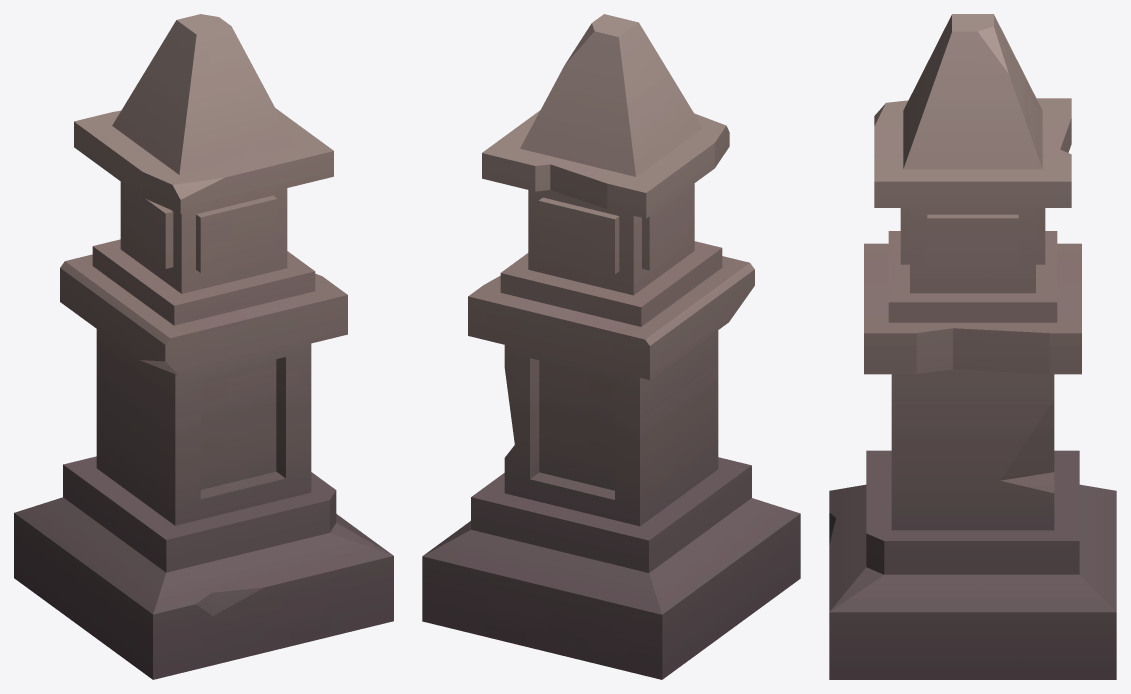
The model's file is tower.glb.
The picture shows the model from 3 angles, left to right: view 1: azimuth 30°, elevation 25°; view 2: azimuth 150°, elevation 25°; view 3: azimuth 270°, elevation 25°; orthographic projection. The views are drawn at different scales.
Parts seen in each view (by area): view 1: obelisk1; view 2: obelisk1; view 3: obelisk1.
Boxes of the visible parts, x1,y1,x2,y2 form: obelisk1: (14, 14, 393, 679); obelisk1: (422, 14, 800, 679); obelisk1: (829, 14, 1116, 679).
Bounding box in the file's own units: 0.7306 × 1.67 × 0.7306.
Materials: 1 (1 with a texture image).
